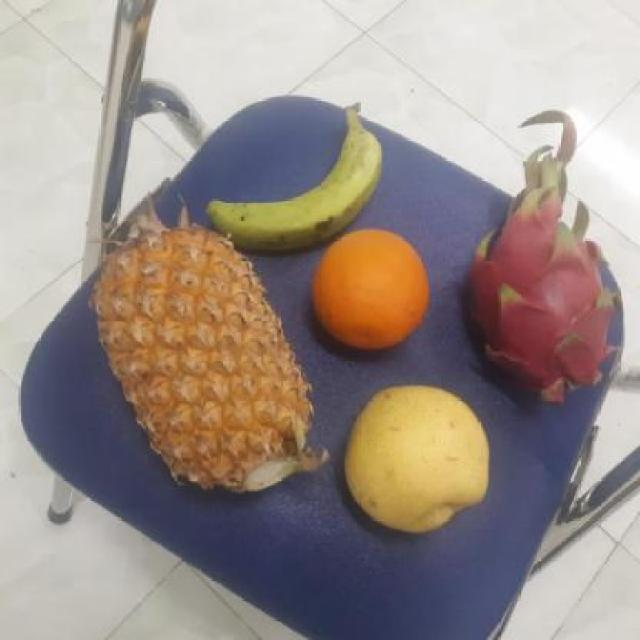banana: (202, 102, 382, 248)
dragon fruit: (454, 195, 621, 410)
oren: (303, 226, 439, 352)
pear: (336, 378, 496, 536)
pineapple: (88, 228, 321, 488)
